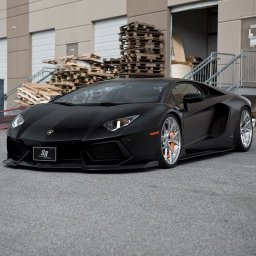car: (3, 77, 254, 174)
